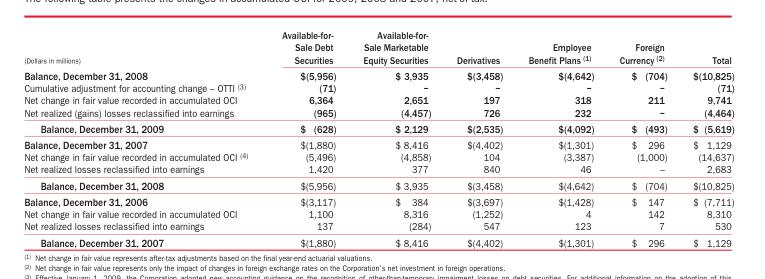table: (23, 29, 733, 248)
table column: (23, 29, 264, 248), (348, 29, 443, 248), (514, 29, 606, 248), (264, 29, 348, 248), (606, 29, 679, 248), (443, 29, 514, 248), (679, 29, 733, 248)
table column header: (23, 29, 733, 67)
table row: (23, 29, 733, 67), (23, 176, 733, 193), (23, 120, 733, 136), (23, 233, 733, 248), (23, 67, 733, 81), (23, 106, 733, 120), (23, 136, 733, 150), (23, 162, 733, 176), (23, 193, 733, 207), (23, 219, 733, 233), (23, 93, 733, 106), (23, 81, 733, 93), (23, 150, 733, 162), (23, 207, 733, 219)
